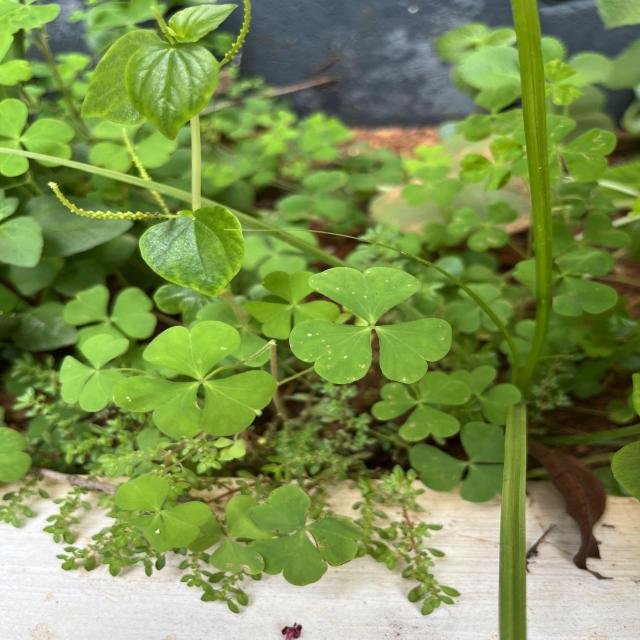Oxalis corniculata: (111, 320, 279, 440), (288, 265, 453, 385), (245, 483, 368, 587), (115, 473, 212, 553), (370, 370, 473, 442), (58, 333, 130, 413)
